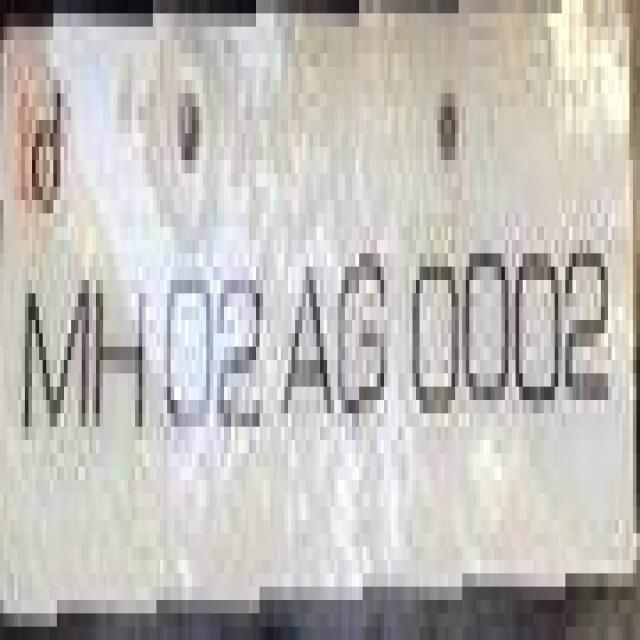license_plate: (28, 13, 640, 600)
